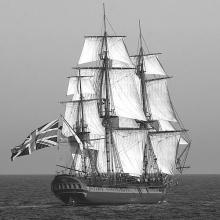fanchuan: (8, 16, 191, 199)
